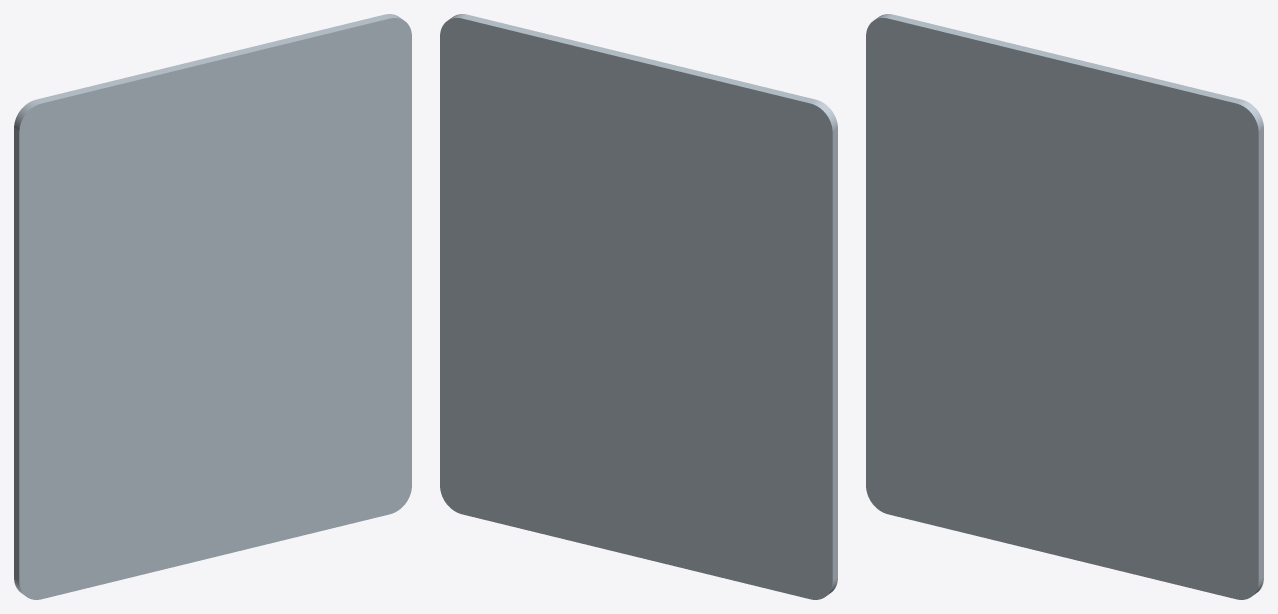
The model's file is .HemoSure_Display_Lens.step.glb.
The picture shows the model from 3 angles, left to right: view 1: azimuth 30°, elevation 25°; view 2: azimuth 150°, elevation 25°; view 3: azimuth 330°, elevation 25°; orthographic projection.
Parts seen in each view (by area): view 1: o1; view 2: o1; view 3: o1.
Part boxes in pixels (x1,y1,x2,y2): o1: (14,14,411,599); o1: (440,14,837,599); o1: (866,14,1263,599).
Bounding box in the file's own units: 0.0338 × 0.0408 × 0.0008.
